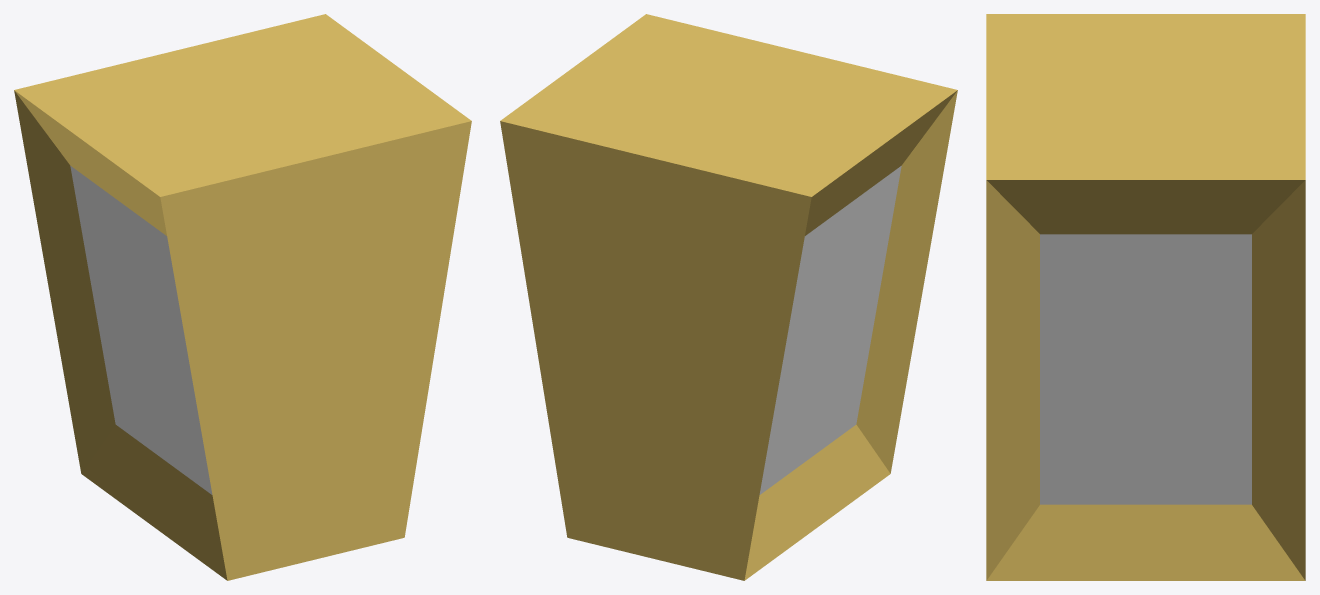
File: Lamp.fbx
The picture shows the model from 3 angles, left to right: view 1: azimuth 30°, elevation 25°; view 2: azimuth 150°, elevation 25°; view 3: azimuth 270°, elevation 25°; orthographic projection. The views are drawn at different scales.
Parts seen in each view (by area): view 1: Cube.008; view 2: Cube.008; view 3: Cube.008.
Boxes of the visible parts, left/top/right/bottom form: Cube.008: left=14, top=14, right=471, bottom=580; Cube.008: left=500, top=14, right=957, bottom=580; Cube.008: left=986, top=14, right=1305, bottom=580.
Bounding box in the file's own units: 25.14 × 30.86 × 20.43.
